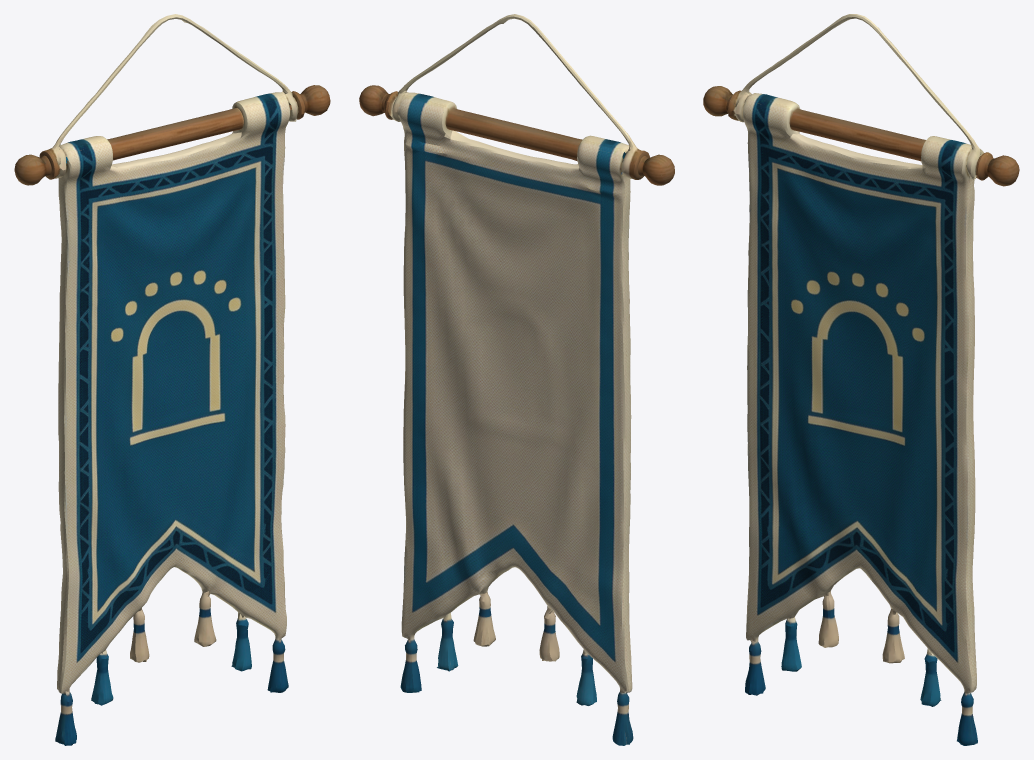
Rendered from hall_banner_tapestry.glb.
3 renders of one model, left to right at view 1: azimuth 30°, elevation 25°; view 2: azimuth 150°, elevation 25°; view 3: azimuth 330°, elevation 25°, orthographic.
Parts seen in each view (by area): view 1: Mesh_0; view 2: Mesh_0; view 3: Mesh_0.
Boxes of the visible parts, x1,y1,x2,y2 form: Mesh_0: (14, 14, 330, 745); Mesh_0: (359, 14, 674, 745); Mesh_0: (703, 14, 1019, 745).
Bounding box in the file's own units: 0.8802 × 1.9 × 0.0859.
1 material, 1 textured.
